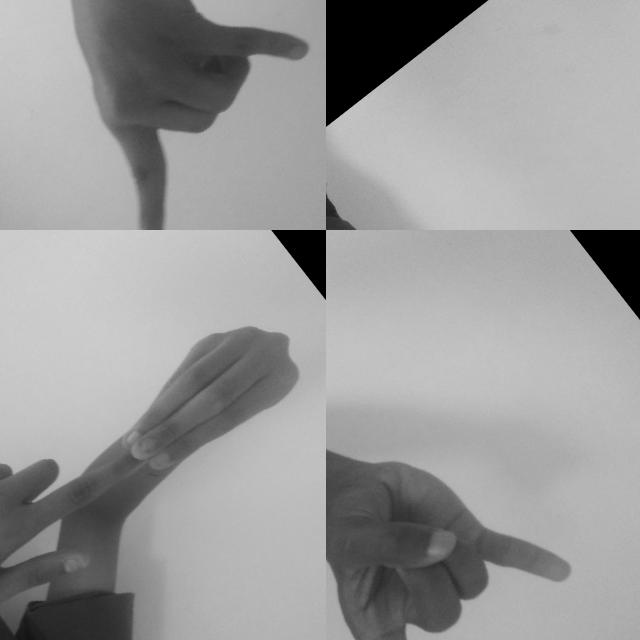Corna: (326, 367, 621, 640), (0, 0, 326, 230)
Five Fathers: (0, 230, 326, 640), (381, 86, 640, 230)
